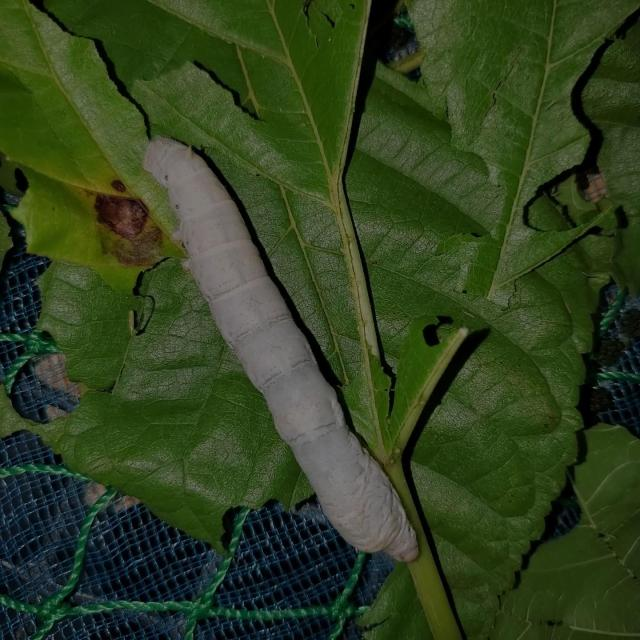Healthy: (126, 104, 521, 597)
